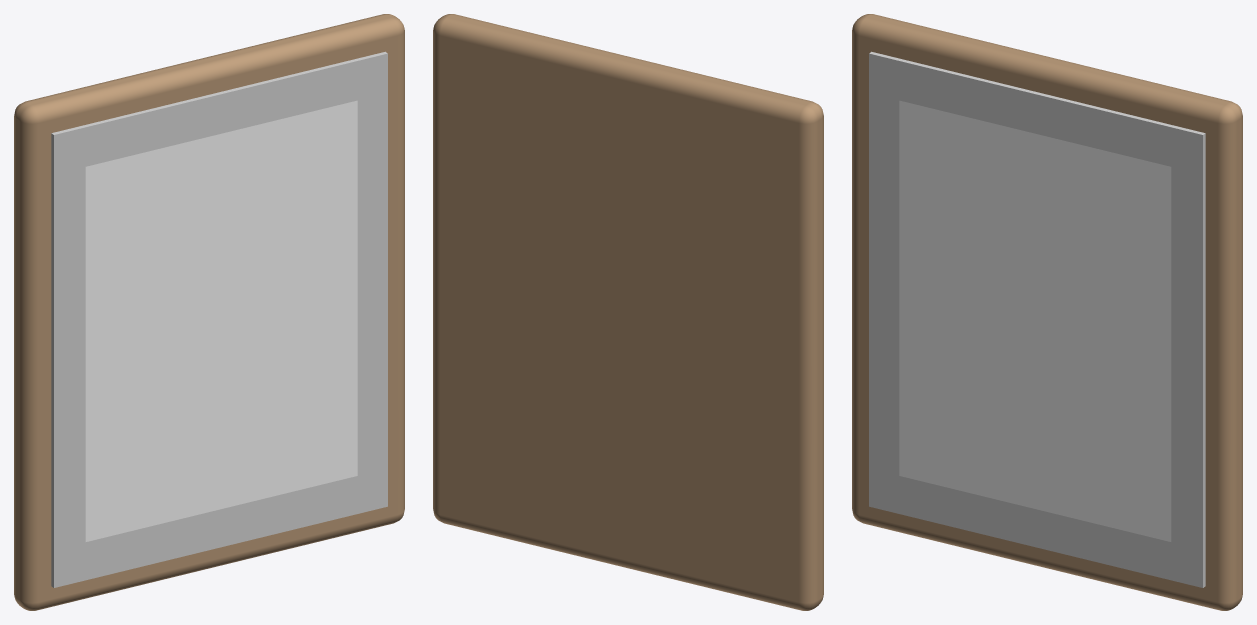
The model's file is furn_frame_ph.glb.
3 renders of one model, left to right at view 1: azimuth 30°, elevation 25°; view 2: azimuth 150°, elevation 25°; view 3: azimuth 330°, elevation 25°, orthographic.
Parts seen in each view (by area): view 1: furn_frame; view 2: furn_frame; view 3: furn_frame.
Part boxes in pixels (box(x1,y1,x2,y2)): furn_frame: box(14, 14, 404, 610); furn_frame: box(433, 14, 823, 610); furn_frame: box(852, 14, 1242, 610).
Size of the model in its own units: 0.62 by 0.78 by 0.059.
